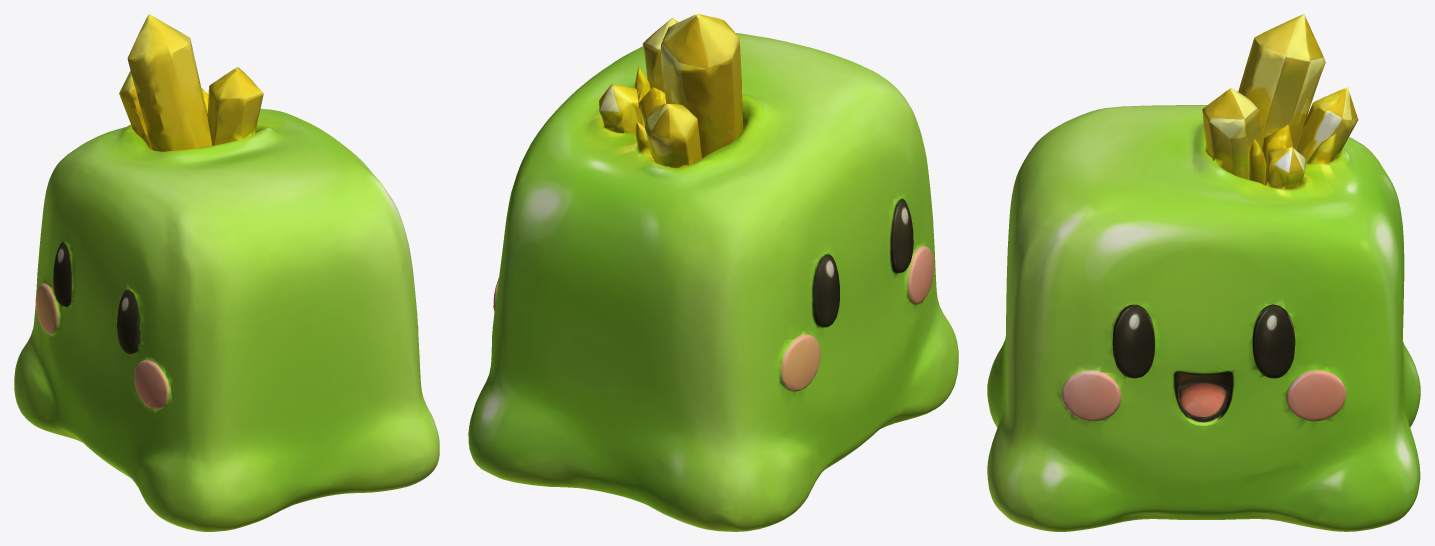
File: MonsterSlimeCube_raw.glb
The picture shows the model from 3 angles, left to right: view 1: azimuth 30°, elevation 25°; view 2: azimuth 150°, elevation 25°; view 3: azimuth 270°, elevation 25°; orthographic projection. The views are drawn at different scales.
Visible parts, largest first — view 1: tripo_node_6783fd35-3ed8-4af4-bc4b-3c4e5eec4d09; view 2: tripo_node_6783fd35-3ed8-4af4-bc4b-3c4e5eec4d09; view 3: tripo_node_6783fd35-3ed8-4af4-bc4b-3c4e5eec4d09.
Part boxes in pixels (x1,y1,x2,y2): tripo_node_6783fd35-3ed8-4af4-bc4b-3c4e5eec4d09: (14,14,439,531); tripo_node_6783fd35-3ed8-4af4-bc4b-3c4e5eec4d09: (468,14,958,531); tripo_node_6783fd35-3ed8-4af4-bc4b-3c4e5eec4d09: (987,14,1420,531).
Bounding box in the file's own units: 0.7121 × 1 × 0.9001.
1 material, 1 textured.
